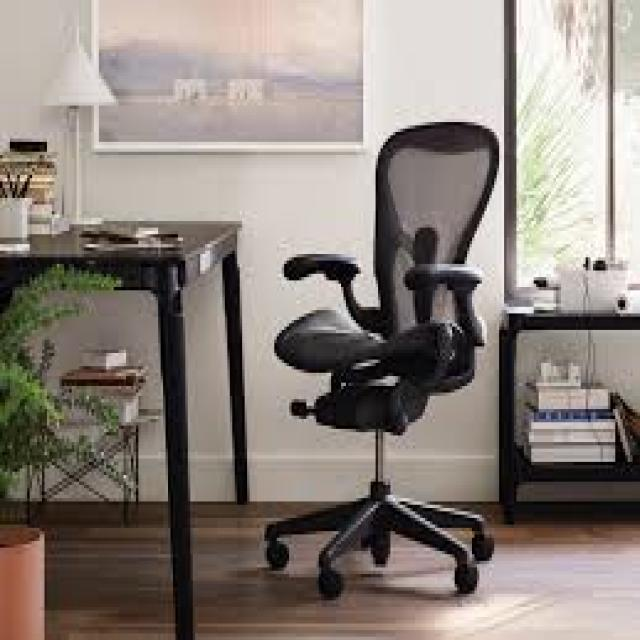chair: (194, 101, 542, 640)
